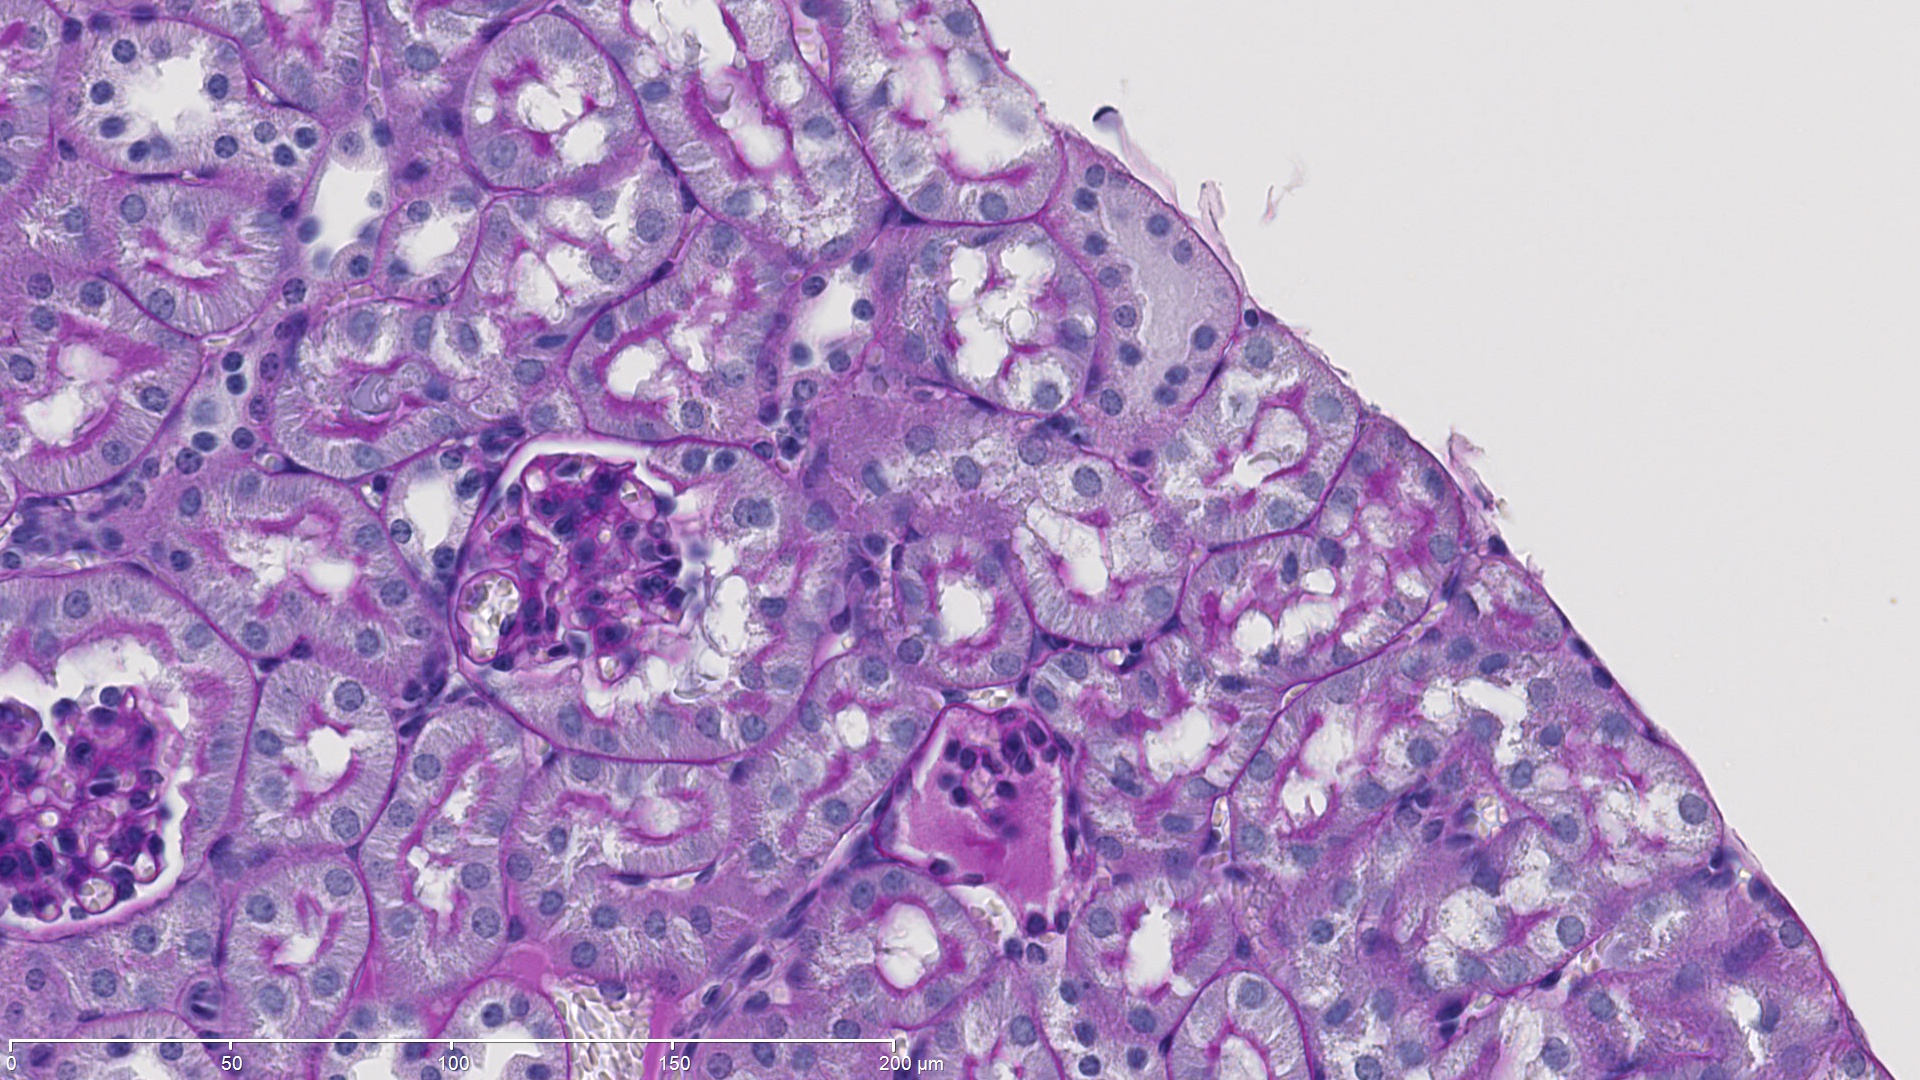Glomeruli: (440, 433, 725, 696), (1, 613, 219, 926)
